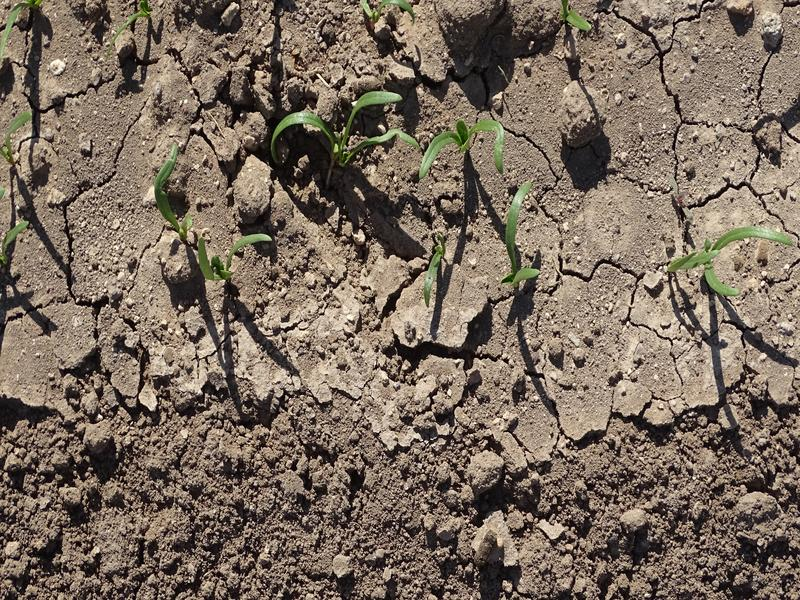Espinaca: (267, 89, 417, 168), (666, 225, 790, 292), (415, 118, 509, 177), (194, 230, 279, 281), (505, 180, 535, 291), (157, 150, 194, 232), (421, 235, 448, 298), (112, 3, 156, 41), (1, 216, 35, 254)
